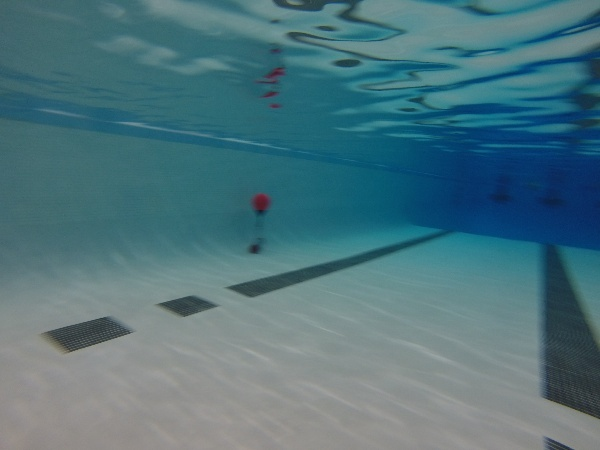buoy_red: (251, 192, 271, 215)
